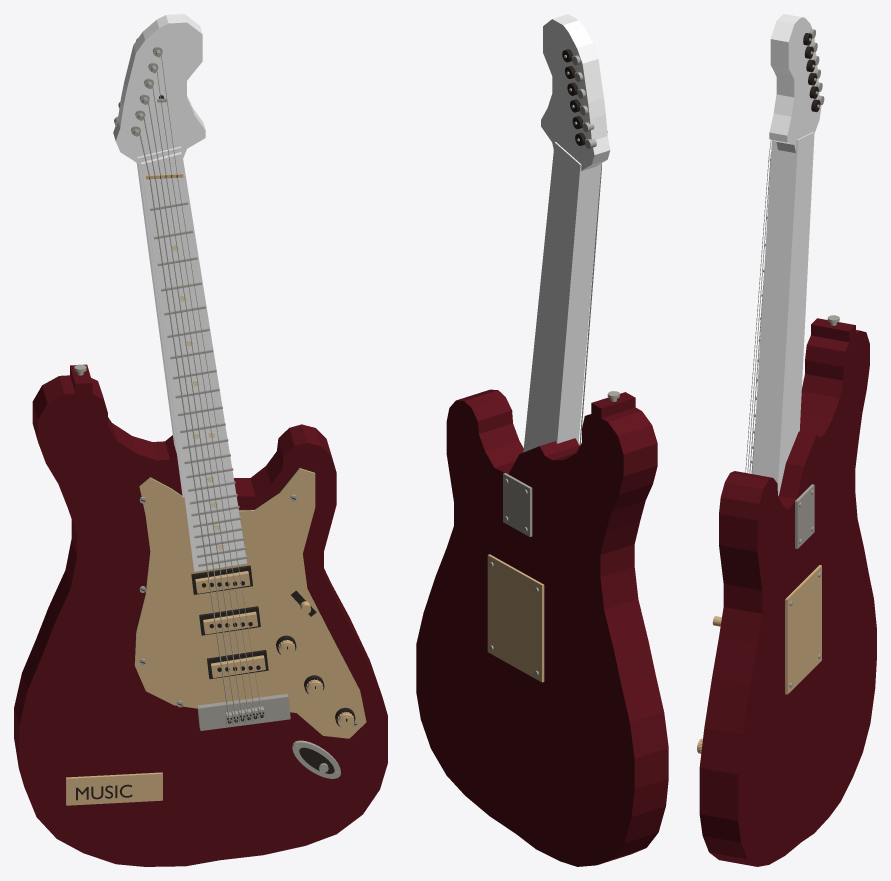
The model's file is room-guitar.glb.
3 views of the same model, side by side, from view 1: azimuth 30°, elevation 25°; view 2: azimuth 150°, elevation 25°; view 3: azimuth 270°, elevation 25° (orthographic). The views are drawn at different scales.
Visible parts, largest first — view 1: Double-cutaway alder body.013, Cream pickguard.013, Rosewood fretboard.013, Maple headstock.013, MUSIC label plate.013, Maple neck.013, Bridge plate.012, String 1.014, String 2.014, String 3.014, String 4.014, String 5.014 (+4 smaller); view 2: Double-cutaway alder body.013, Maple neck.013, Maple headstock.013, Rear tremolo spring cover.005, Bolt-on neck plate.005, Rosewood fretboard.013; view 3: Double-cutaway alder body.013, Maple neck.013, Maple headstock.013, Rear tremolo spring cover.005, Rosewood fretboard.013, Bolt-on neck plate.005, String 6.014, String 5.014.
Boxes of the visible parts, x1,y1,x2,y2 form: Double-cutaway alder body.013: [14, 364, 387, 866]; Cream pickguard.013: [134, 468, 366, 738]; Rosewood fretboard.013: [141, 152, 246, 571]; Maple headstock.013: [113, 14, 205, 163]; MUSIC label plate.013: [66, 772, 162, 805]; Maple neck.013: [136, 146, 237, 504]; Bridge plate.012: [197, 694, 290, 730]; String 1.014: [133, 129, 230, 722]; String 2.014: [137, 113, 236, 721]; String 3.014: [142, 98, 242, 720]; String 4.014: [146, 82, 249, 719]; String 5.014: [151, 66, 255, 718]; Double-cutaway alder body.013: [416, 389, 668, 866]; Maple neck.013: [523, 142, 599, 452]; Maple headstock.013: [541, 14, 610, 170]; Rear tremolo spring cover.005: [487, 554, 544, 682]; Bolt-on neck plate.005: [503, 473, 532, 536]; Rosewood fretboard.013: [576, 163, 601, 443]; Double-cutaway alder body.013: [699, 318, 876, 866]; Maple neck.013: [756, 132, 814, 495]; Maple headstock.013: [769, 14, 821, 152]; Rear tremolo spring cover.005: [785, 565, 821, 694]; Rosewood fretboard.013: [752, 140, 775, 474]; Bolt-on neck plate.005: [795, 484, 814, 548]; String 6.014: [745, 140, 771, 472]; String 5.014: [747, 152, 771, 473].
Bounding box in the file's own units: 0.378 × 0.9801 × 0.1982.
